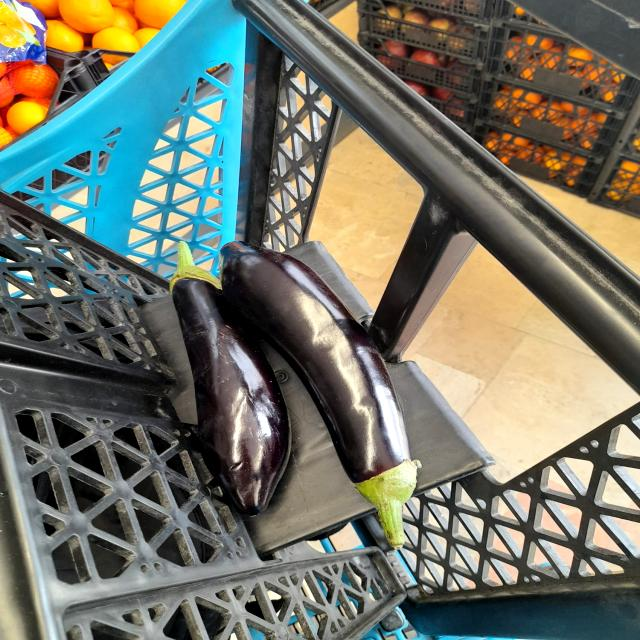eggplant: (215, 235, 422, 552), (160, 237, 298, 522)
